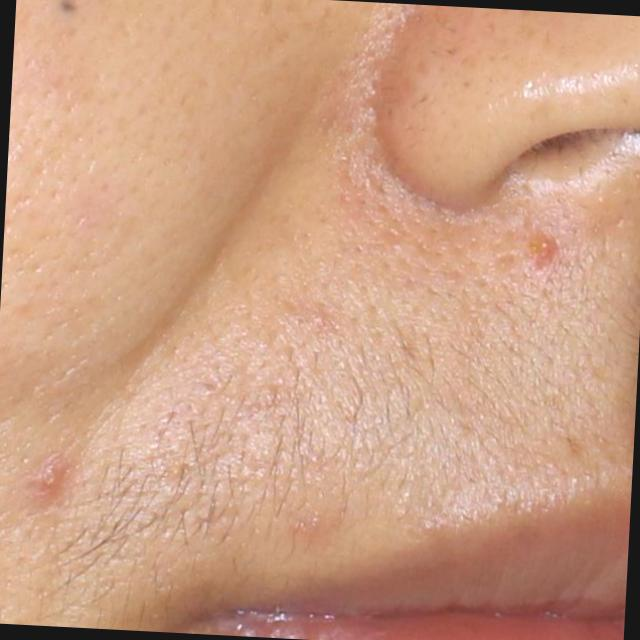blackhead: (59, 0, 77, 14)
